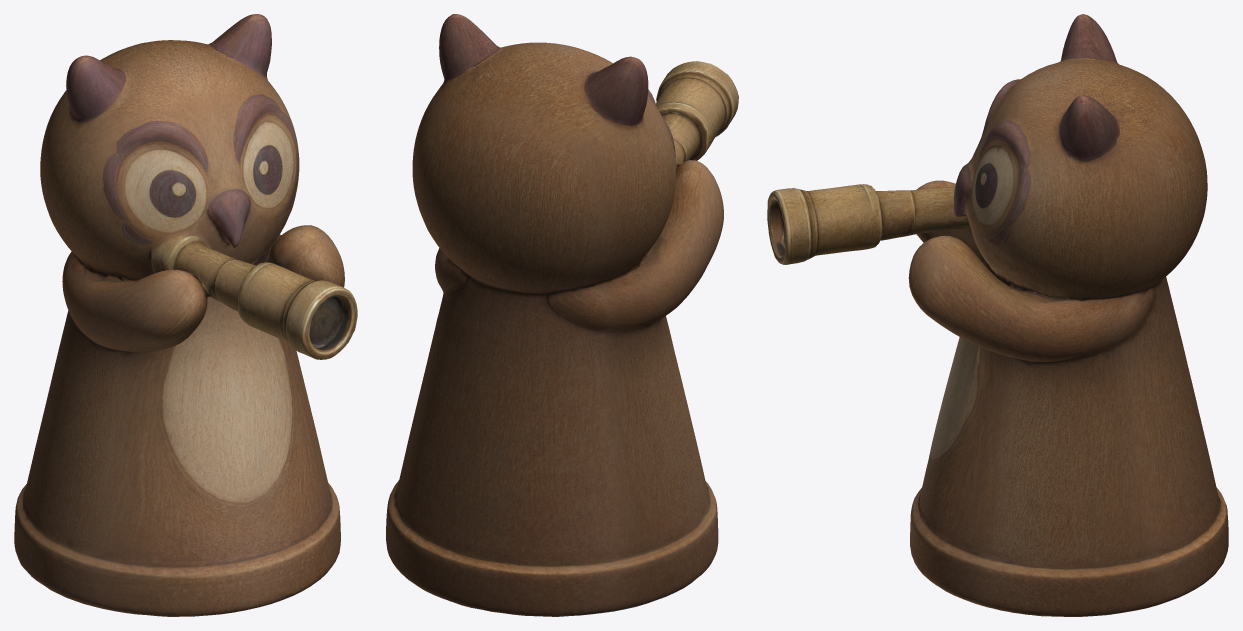
File: Prop_PuppetOwlTelescope.fbx
3 renders of one model, left to right at view 1: azimuth 30°, elevation 25°; view 2: azimuth 150°, elevation 25°; view 3: azimuth 270°, elevation 25°, orthographic. The views are drawn at different scales.
Parts seen in each view (by area): view 1: texture_mapping; view 2: texture_mapping; view 3: texture_mapping.
Part boxes in pixels (<box>): texture_mapping: <box>14,14,357,616</box>; texture_mapping: <box>386,14,738,616</box>; texture_mapping: <box>767,14,1228,616</box>.
Bounding box in the file's own units: 0.5799 × 0.8409 × 0.9984.
Materials: 1 (1 with a texture image).
